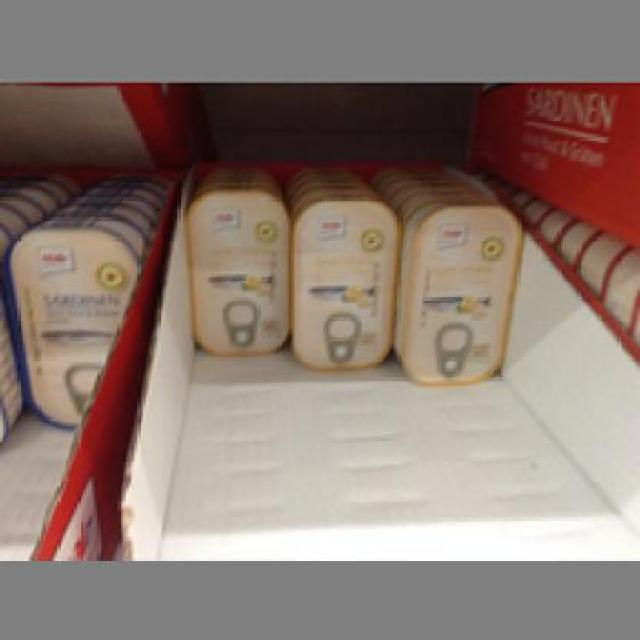Fish: (2, 214, 135, 426), (391, 196, 520, 390), (288, 193, 394, 370), (180, 186, 291, 354)
